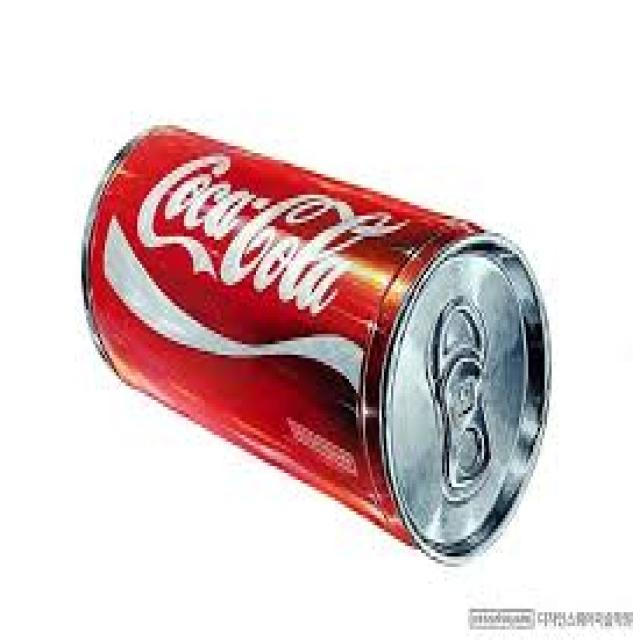Coca-Cola: (67, 115, 552, 585)
